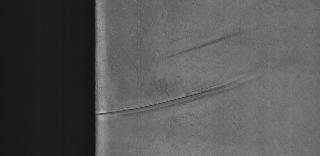scratches: (97, 64, 263, 130)
